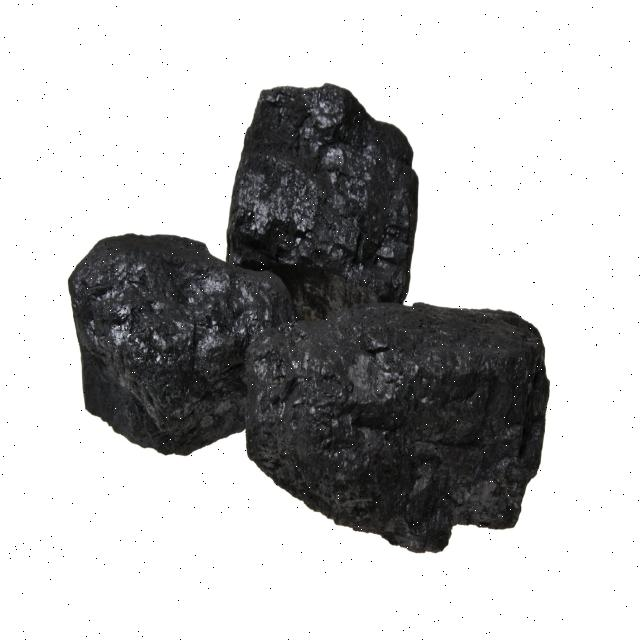Sedimentary: (71, 82, 567, 564)
